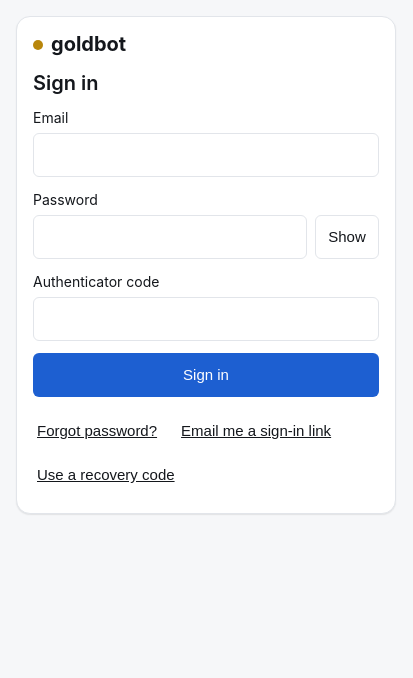
Test case: Login › resets a forgotten password with the authenticator code, and the recovery code for the owner
Click the button "Forgot password?".
click(97, 431)  # box x1=33 y1=409 x2=161 y2=453
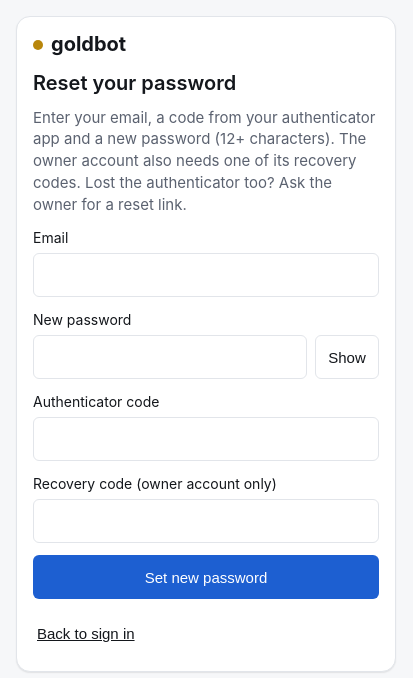
Now the heading "Reset your password" is shown, box x1=33 y1=71 x2=236 y2=95
Now the text "Lost the authenticator too? Ask the owner for a reset link" is shown, box x1=33 y1=108 x2=376 y2=214
Type "o@x.io" into the field labelled "Email".
click(206, 275); type("o@x.io")  # box x1=33 y1=253 x2=379 y2=297
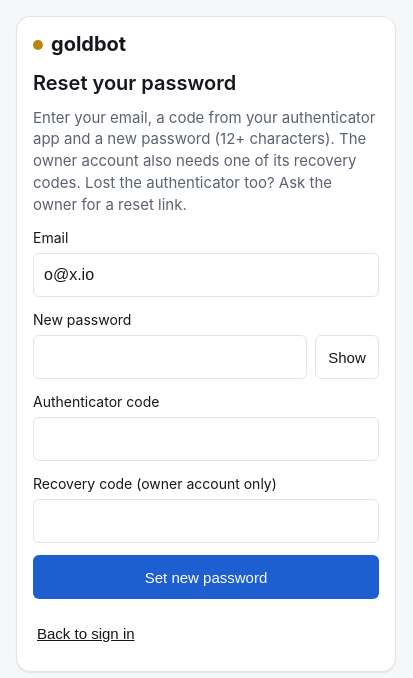
Type "123456" into the field labelled "Authenticator code".
click(206, 439); type("123456")  # box x1=33 y1=417 x2=379 y2=461
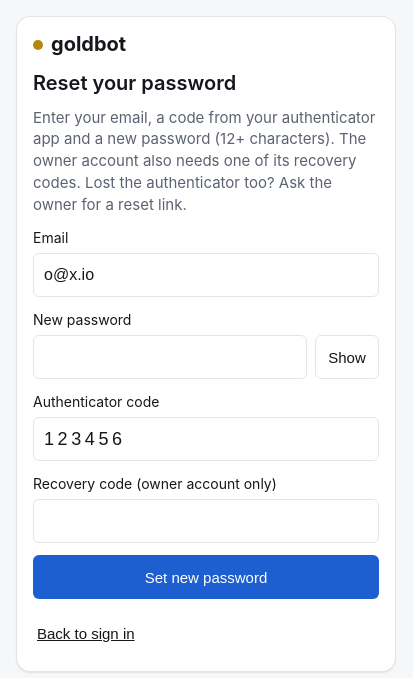
Type "a brand new password" into the password field labelled "New password".
click(170, 357); type("a brand new password")  # box x1=33 y1=335 x2=307 y2=379
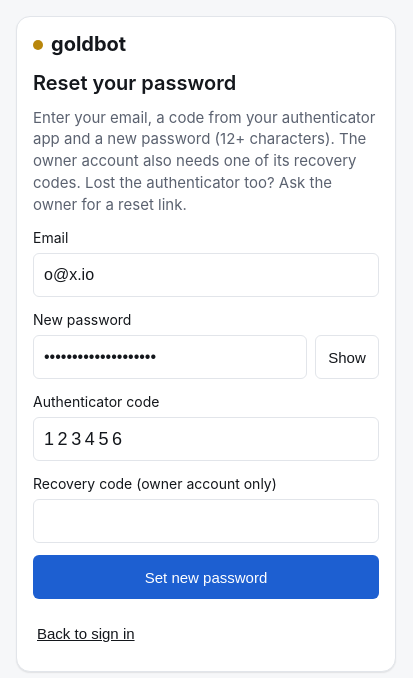
Type "abcd-efgh-ijkl-mnop" into the field labelled "Recovery code (owner account only)".
click(206, 521); type("abcd-efgh-ijkl-mnop")  # box x1=33 y1=499 x2=379 y2=543
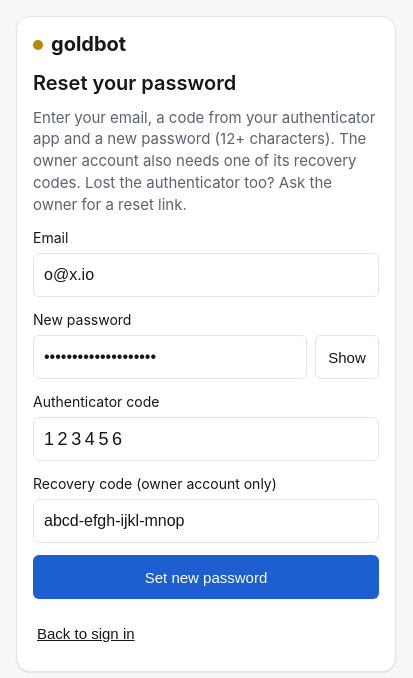
Click the button "Set new password".
click(206, 577)  # box x1=33 y1=555 x2=379 y2=599
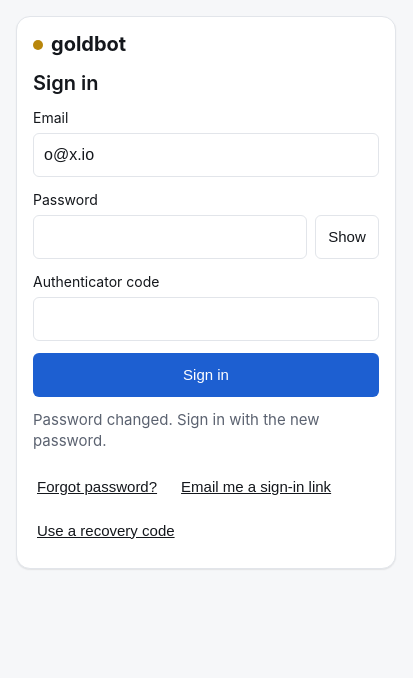
Now the message shows "Password changed", box x1=33 y1=410 x2=320 y2=450
Now the heading "Sign in" is shown, box x1=33 y1=71 x2=98 y2=95
